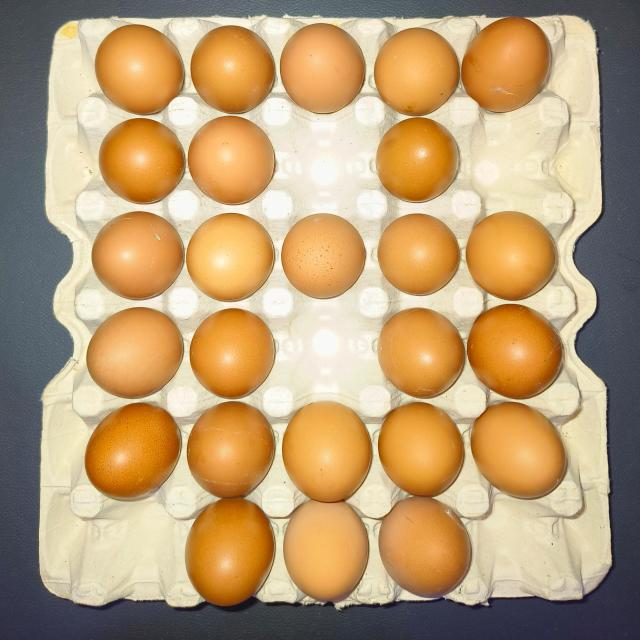Eggs: (78, 403, 180, 501), (472, 404, 566, 505), (382, 503, 478, 601), (470, 309, 572, 401), (187, 504, 275, 608), (86, 305, 182, 400), (90, 19, 186, 112), (282, 403, 373, 501), (468, 14, 552, 118), (471, 208, 559, 305), (89, 212, 185, 298), (282, 507, 368, 602), (380, 305, 464, 401), (95, 118, 185, 206), (375, 113, 461, 205), (188, 304, 274, 396), (285, 209, 369, 303), (194, 20, 278, 111), (188, 402, 272, 493), (188, 120, 276, 206), (378, 405, 463, 494), (285, 21, 366, 114), (380, 211, 461, 304), (379, 22, 456, 115), (193, 214, 275, 301)
